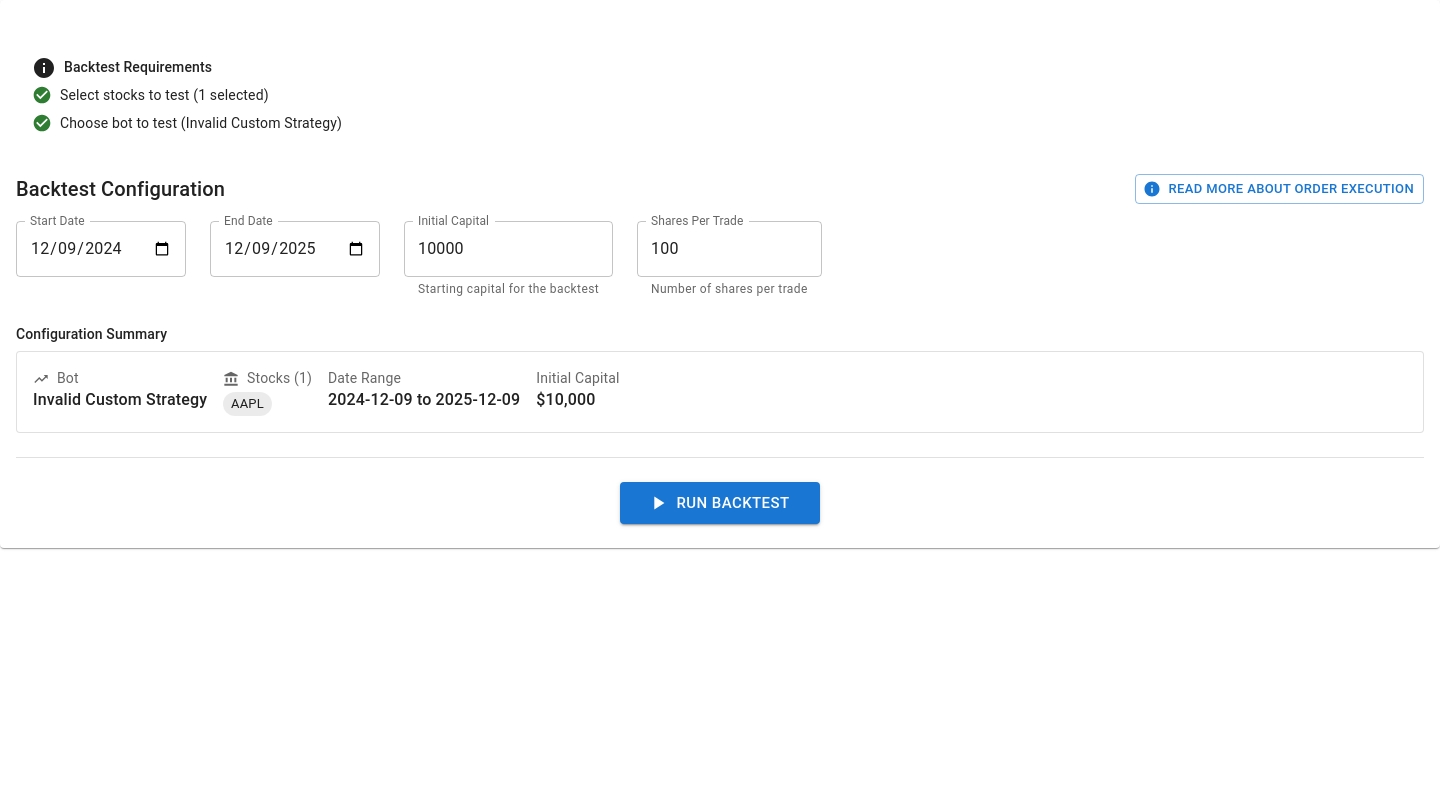
Test case: BacktestSessionControls › shows error when custom strategy is missing conditions
This screenshot has width=1440, height=810.
Click the button "Run Backtest": [720, 503] box x1=620 y1=482 x2=820 y2=524
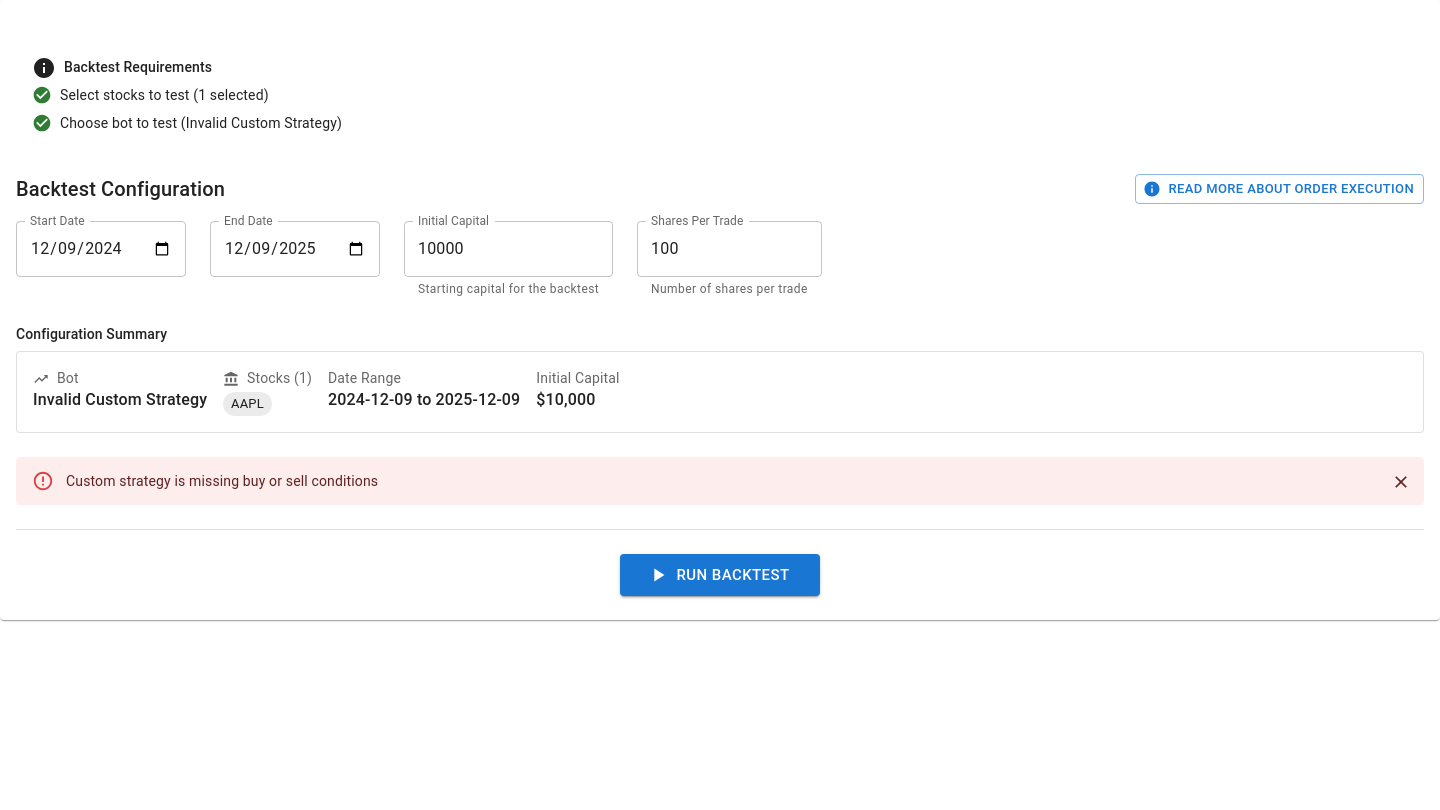
Result: the text "Custom strategy is missing buy or sell conditions" is shown at x1=66 y1=473 x2=378 y2=489
